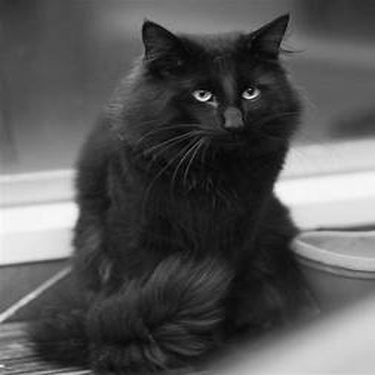cat: (22, 15, 308, 370)
